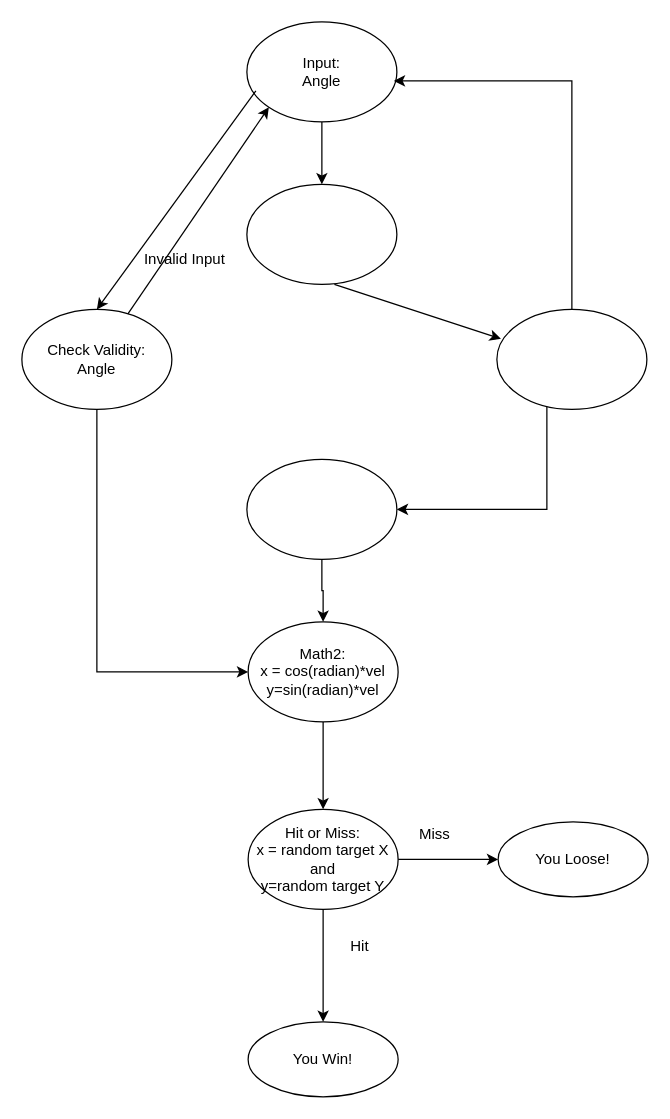
This 670x1119 diagram has some shape labels left out. Here are the shapes that lost their labels. From the top down, the box of each, then its label:
(246, 183, 397, 284): Input: Velocity
(496, 308, 647, 409): Check Validity: Velocity
(246, 458, 397, 559): Math1: Convert Angle to Radian angle*(math.PI/180)
